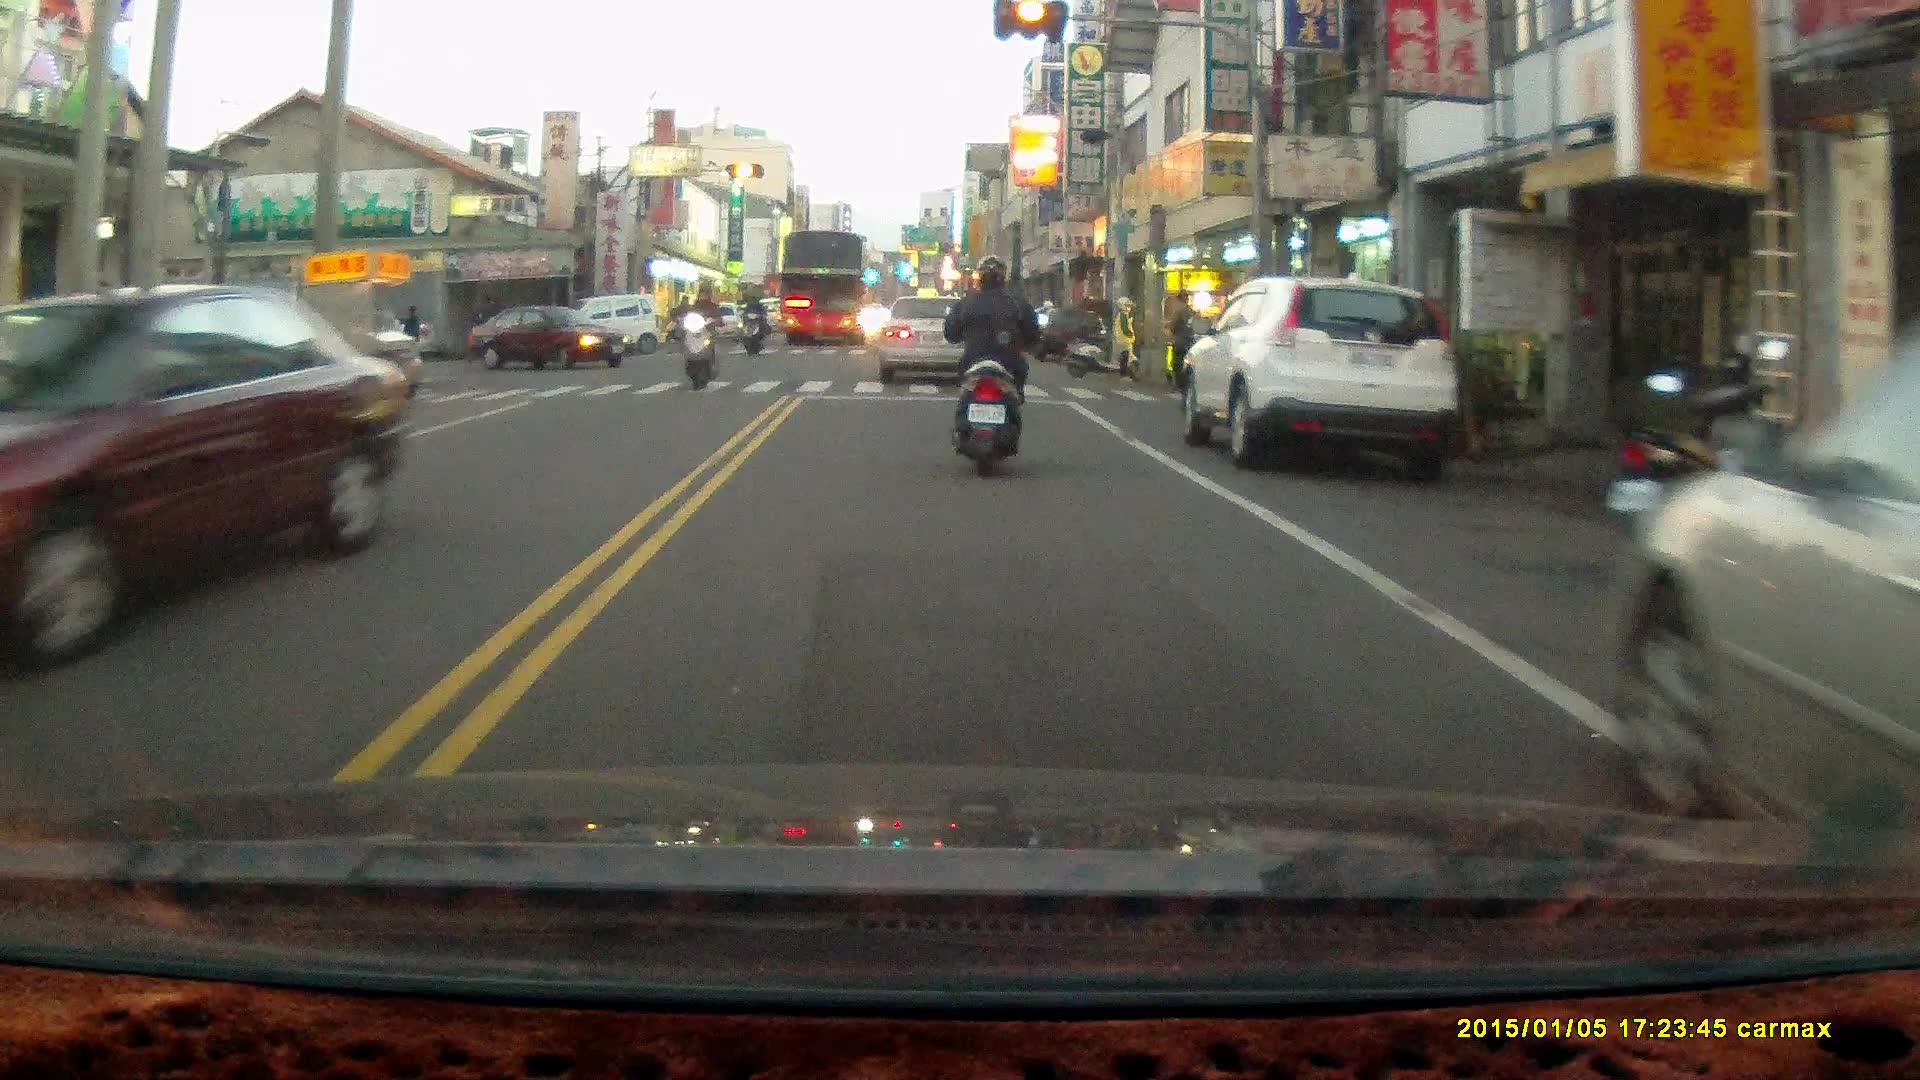pedestrian: (1167, 289, 1198, 391), (1111, 295, 1143, 383), (400, 302, 421, 363)
rider: (942, 253, 1041, 479), (678, 280, 723, 393), (661, 293, 693, 357), (740, 288, 763, 355)
vehicle: (1, 283, 408, 677), (1608, 318, 1919, 829), (1182, 277, 1463, 471), (772, 231, 872, 347), (478, 305, 628, 378), (877, 295, 986, 385)
